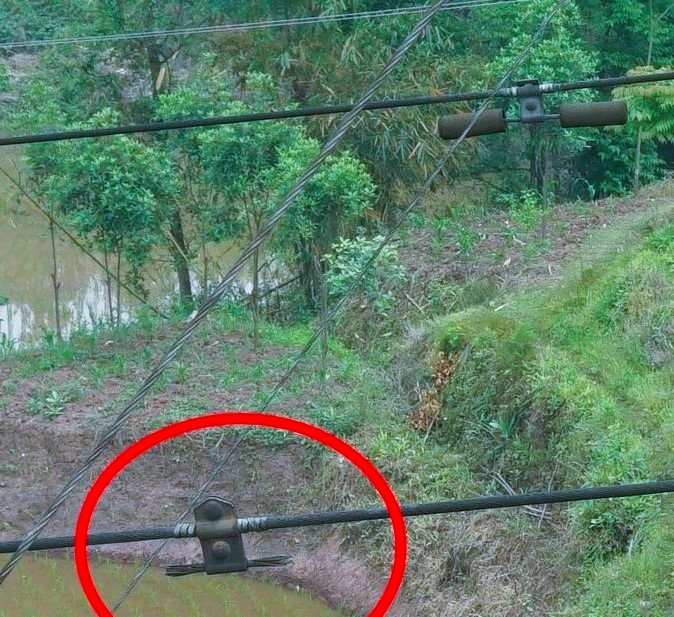Damage of shockproof hammer: (150, 481, 312, 594)
